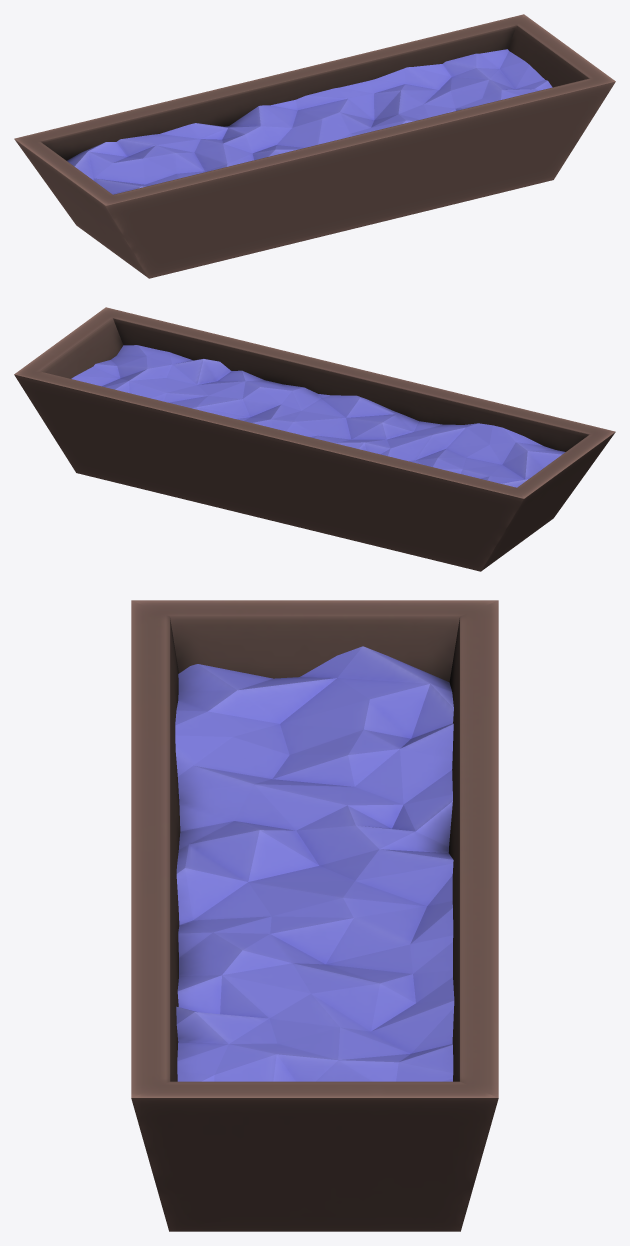
The model's file is Props_1.fbx.
The picture shows the model from 3 angles, top to bottom: view 1: azimuth 30°, elevation 25°; view 2: azimuth 150°, elevation 25°; view 3: azimuth 270°, elevation 25°; orthographic projection. The views are drawn at different scales.
Visible parts, largest first — view 1: Props_1; view 2: Props_1; view 3: Props_1.
Boxes of the visible parts, x1,y1,x2,y2 form: Props_1: (14,14,615,278); Props_1: (14,307,615,571); Props_1: (131,600,498,1231).
Size of the model in its own units: 42.81 by 13.36 by 7.43.
Materials: 1 (1 with a texture image).
